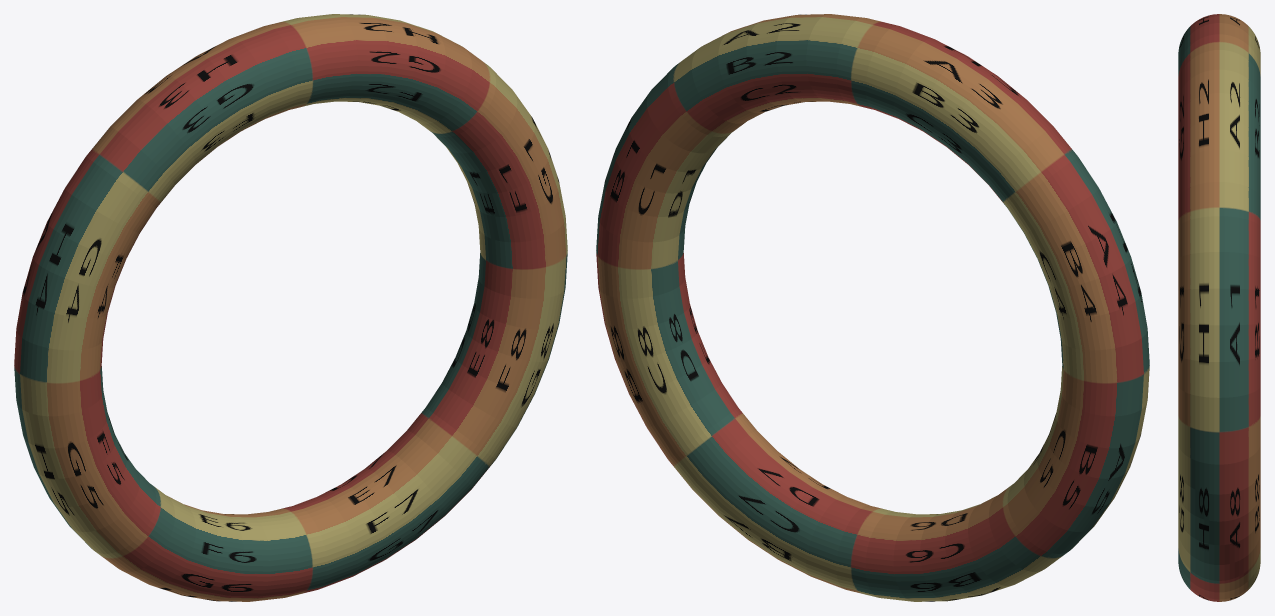
Rendered from texture_torus_R28_r10.glb.
The picture shows the model from 3 angles, left to right: view 1: azimuth 30°, elevation 25°; view 2: azimuth 150°, elevation 25°; view 3: azimuth 270°, elevation 25°; orthographic projection. The views are drawn at different scales.
Parts seen in each view (by area): view 1: world; view 2: world; view 3: world.
Boxes of the visible parts, left/top/right/bottom form: world: left=14, top=14, right=567, bottom=601; world: left=596, top=14, right=1149, bottom=601; world: left=1178, top=14, right=1260, bottom=601.
Size of the model in its own units: 33.33 by 33.27 by 4.66.
1 material, 1 textured.
